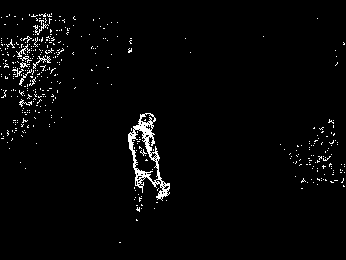person: (126, 111, 171, 222)
